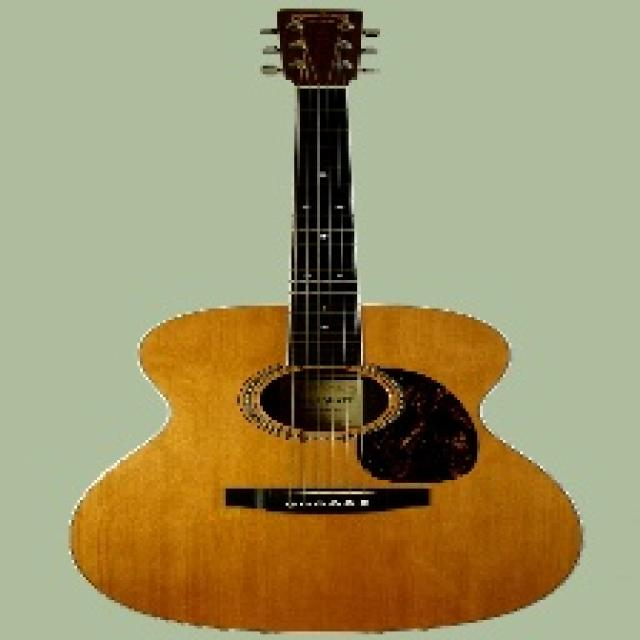guitar: (68, 7, 586, 636)
